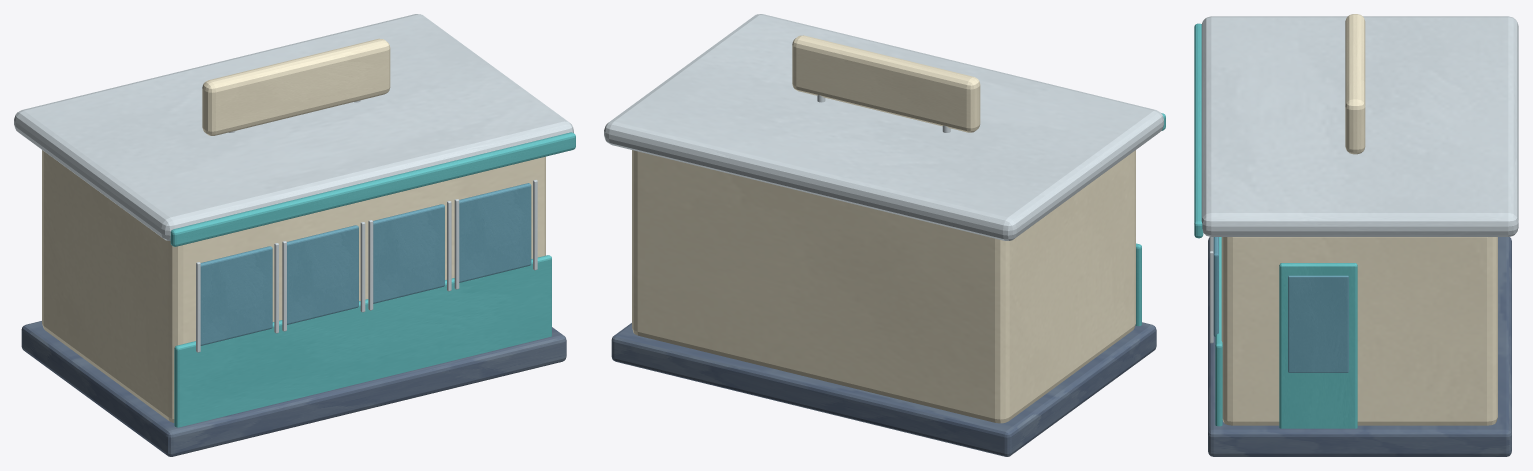
The model's file is diner.glb.
3 renders of one model, left to right at view 1: azimuth 30°, elevation 25°; view 2: azimuth 150°, elevation 25°; view 3: azimuth 270°, elevation 25°, orthographic.
Parts seen in each view (by area): view 1: diner; view 2: diner; view 3: diner.
Boxes of the visible parts, box(x1,y1,x2,y2) form: diner: box(14, 14, 575, 456); diner: box(604, 14, 1165, 456); diner: box(1194, 14, 1518, 456).
Bounding box in the file's own units: 5.25 × 3.62 × 3.52.
1 material, 1 textured.
